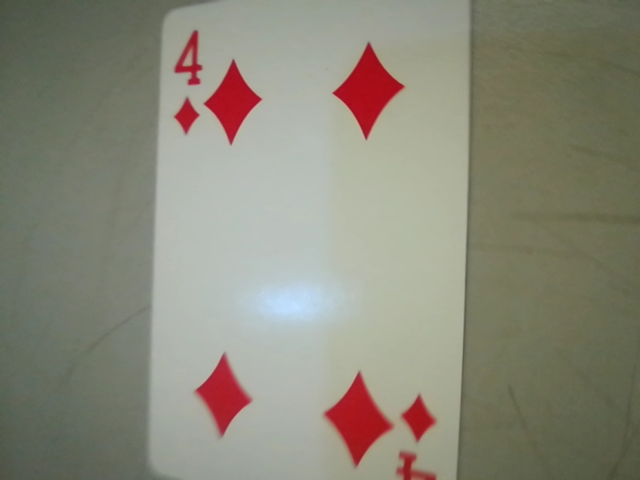fk 4: (161, 22, 204, 145)
